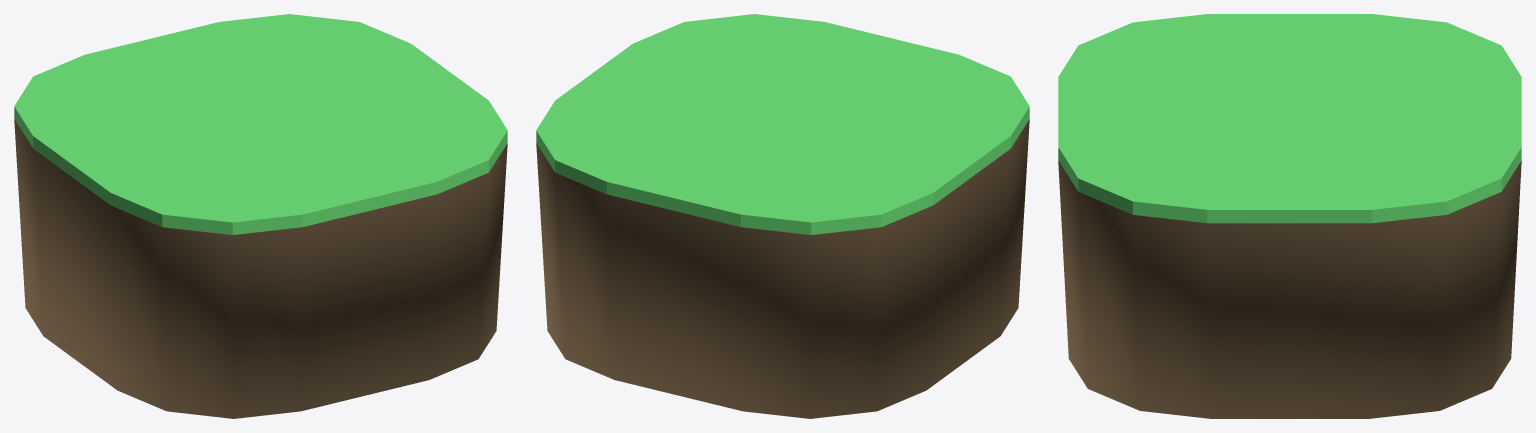
Rendered from island.fbx.
3 views of the same model, side by side, from view 1: azimuth 30°, elevation 25°; view 2: azimuth 150°, elevation 25°; view 3: azimuth 270°, elevation 25° (orthographic). The views are drawn at different scales.
Visible parts, largest first — view 1: Cube; view 2: Cube; view 3: Cube.
Boxes of the visible parts, x1,y1,x2,y2 form: Cube: [14, 14, 507, 418]; Cube: [536, 14, 1029, 418]; Cube: [1058, 14, 1521, 418].
Bounding box in the file's own units: 54627 × 27771 × 54627.
